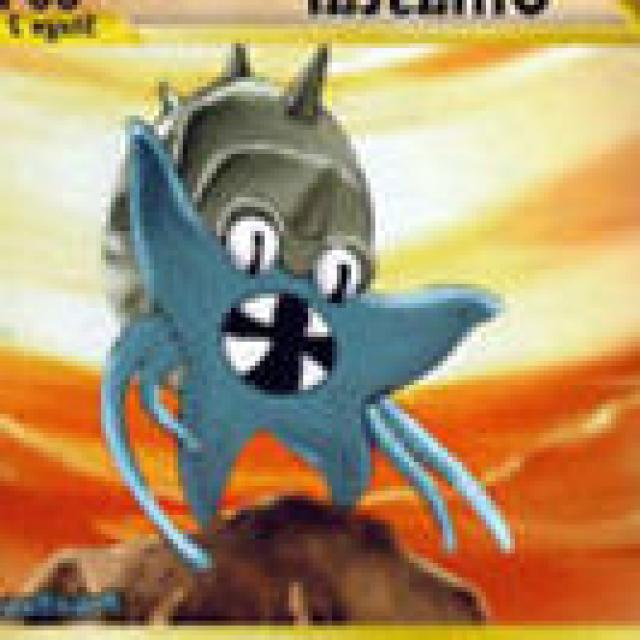Omastar: (78, 44, 382, 528)
